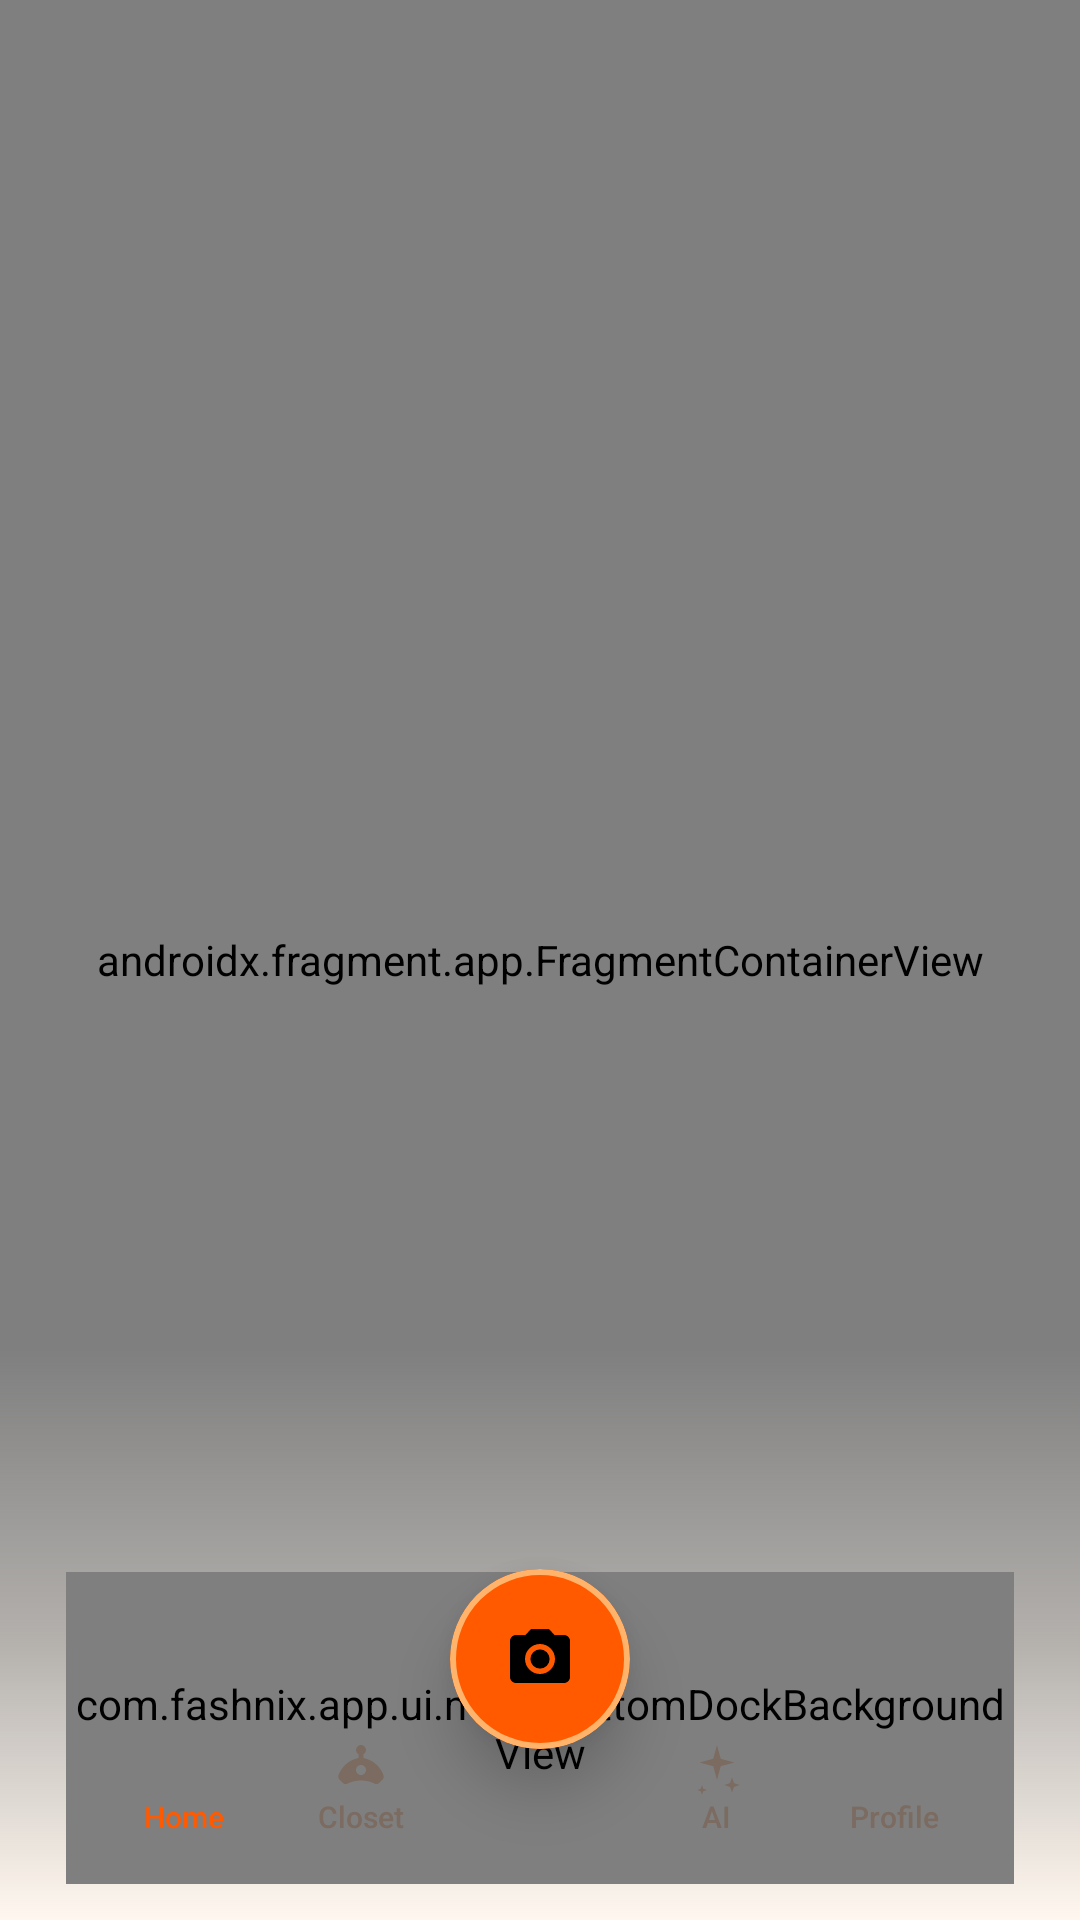

Screen size 1080px×1920px. Icon name, then its center in pixels as point (x, y):
hanger: point (361, 1764)
sparkle: point (718, 1770)
